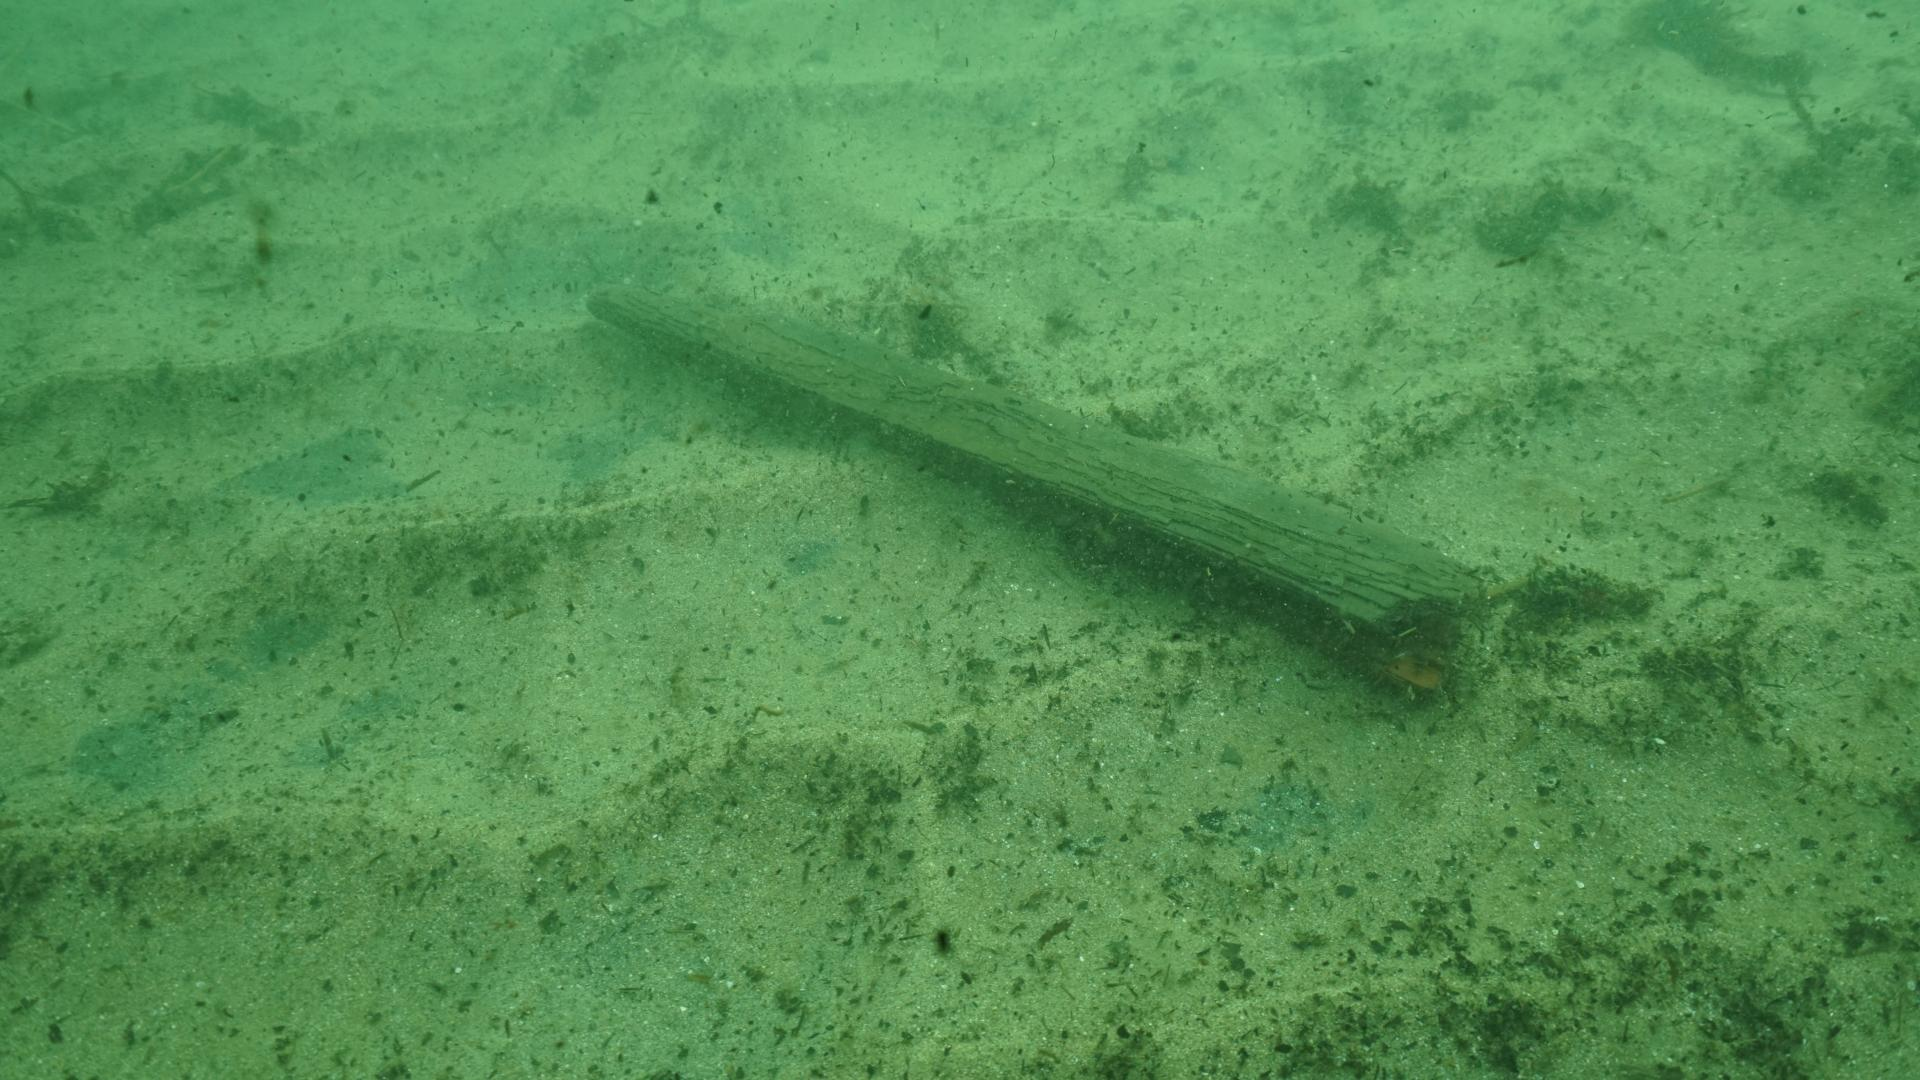wood: (583, 281, 1480, 694)
